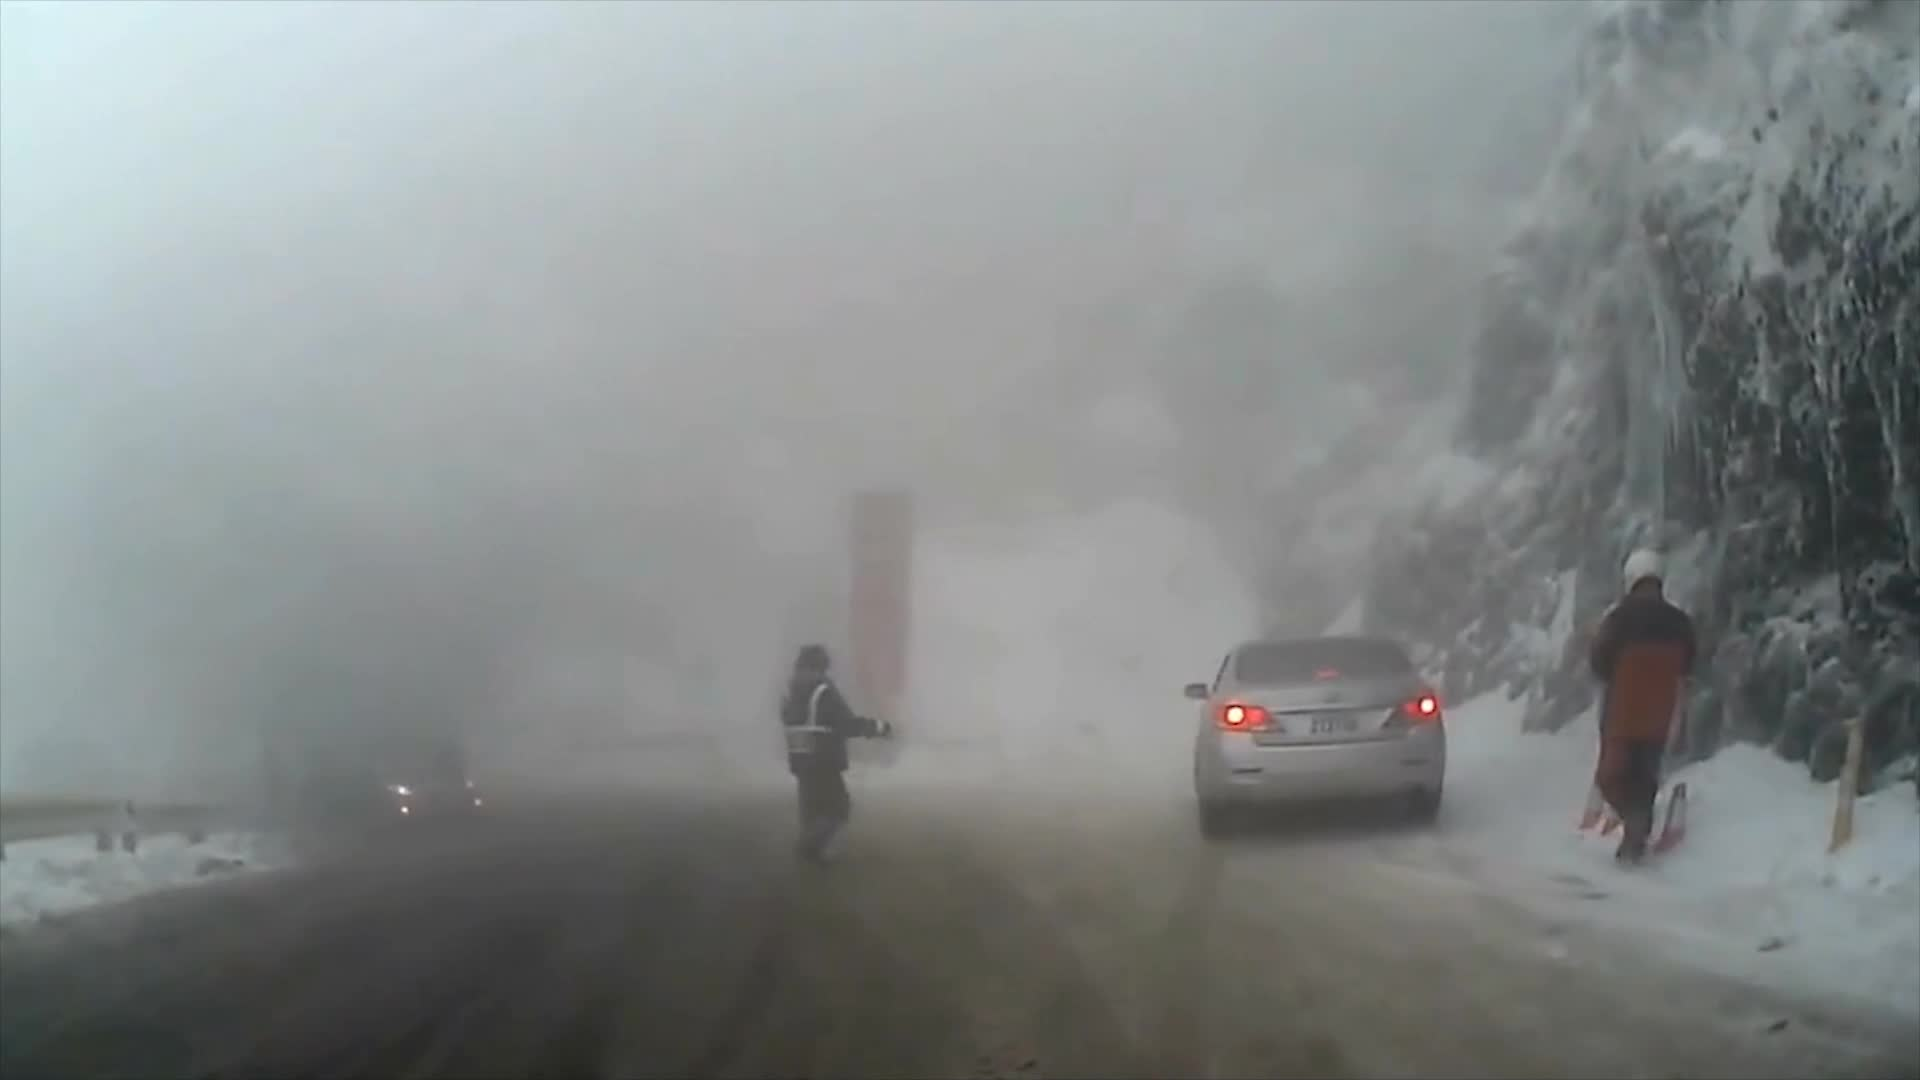pedestrian: (1584, 543, 1697, 870), (781, 646, 895, 869)
vehicle: (1182, 630, 1446, 839)
